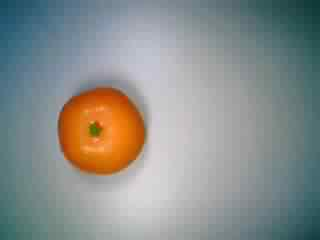orange: (53, 81, 147, 180)
